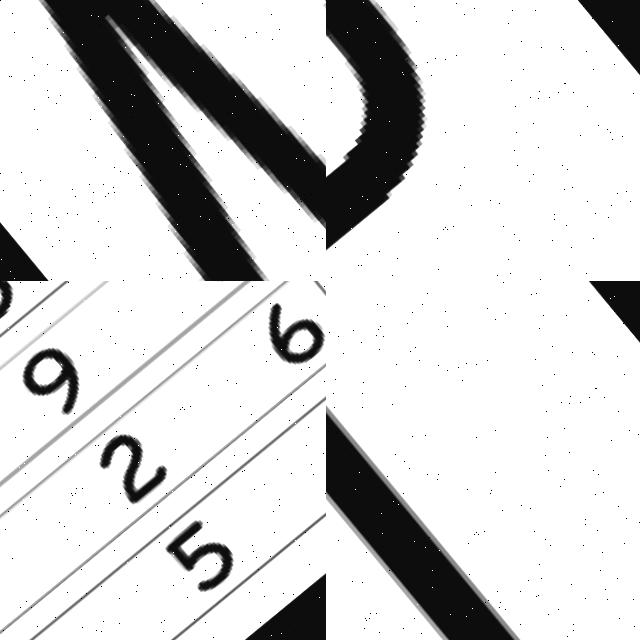2: (88, 415, 178, 508)
5: (158, 500, 255, 598)
6: (246, 282, 326, 374)
9: (6, 326, 106, 429)
I: (326, 401, 526, 640)
M: (0, 0, 326, 281)
P: (326, 0, 428, 255)
